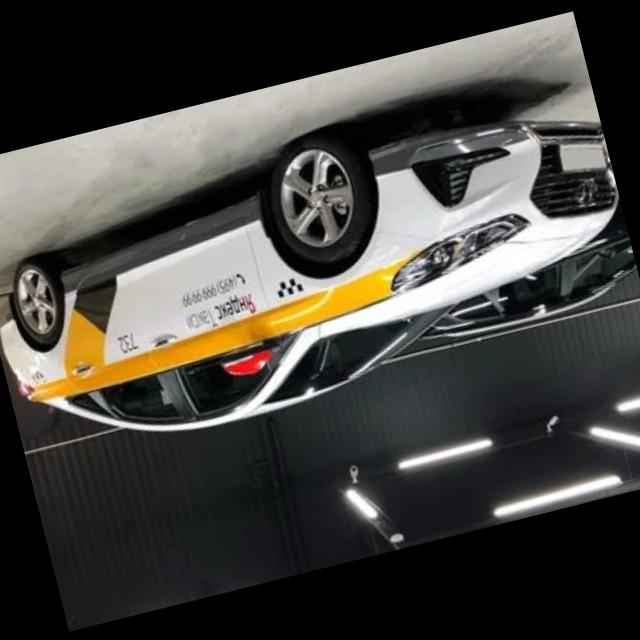taxi: (1, 64, 640, 473)
